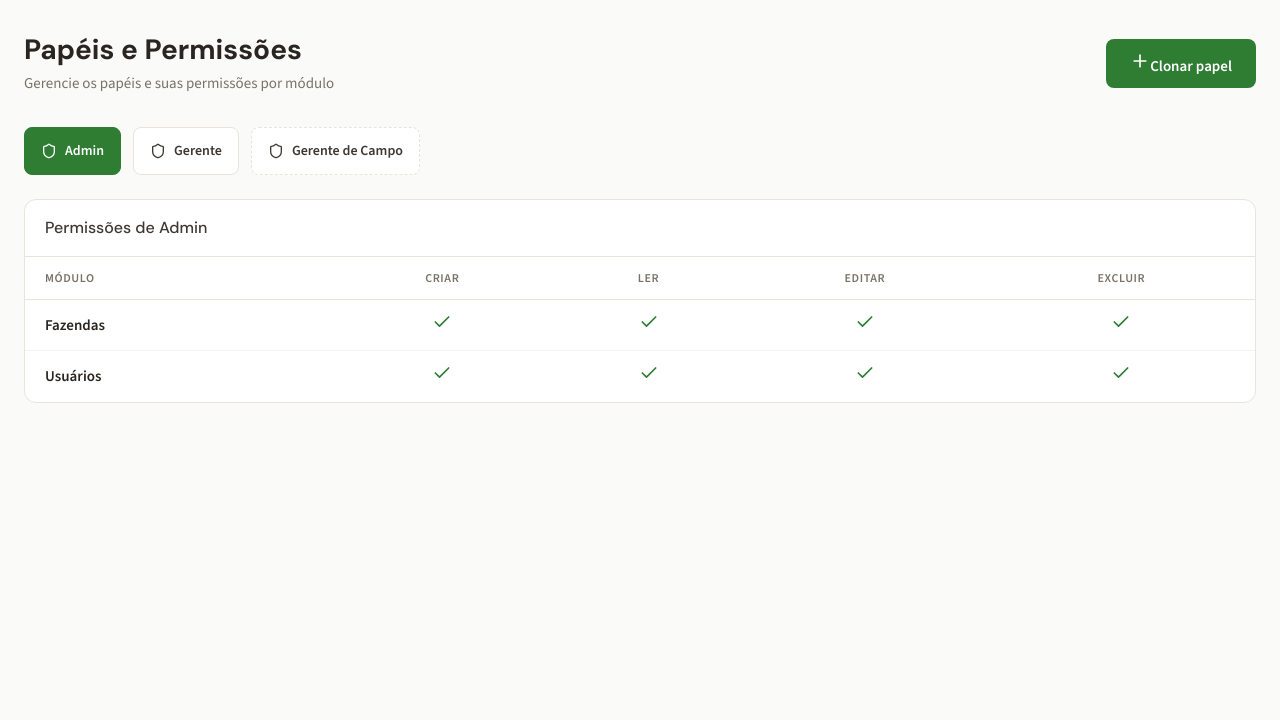
Test: RolesPage › delete modal: button disabled until name is typed correctly
The image size is (1280, 720).
Expected: the heading "Papéis e Permissões" is shown, [24,32,334,68]
Click the button "Gerente de Campo" at (335, 151), box [251,127,420,175]
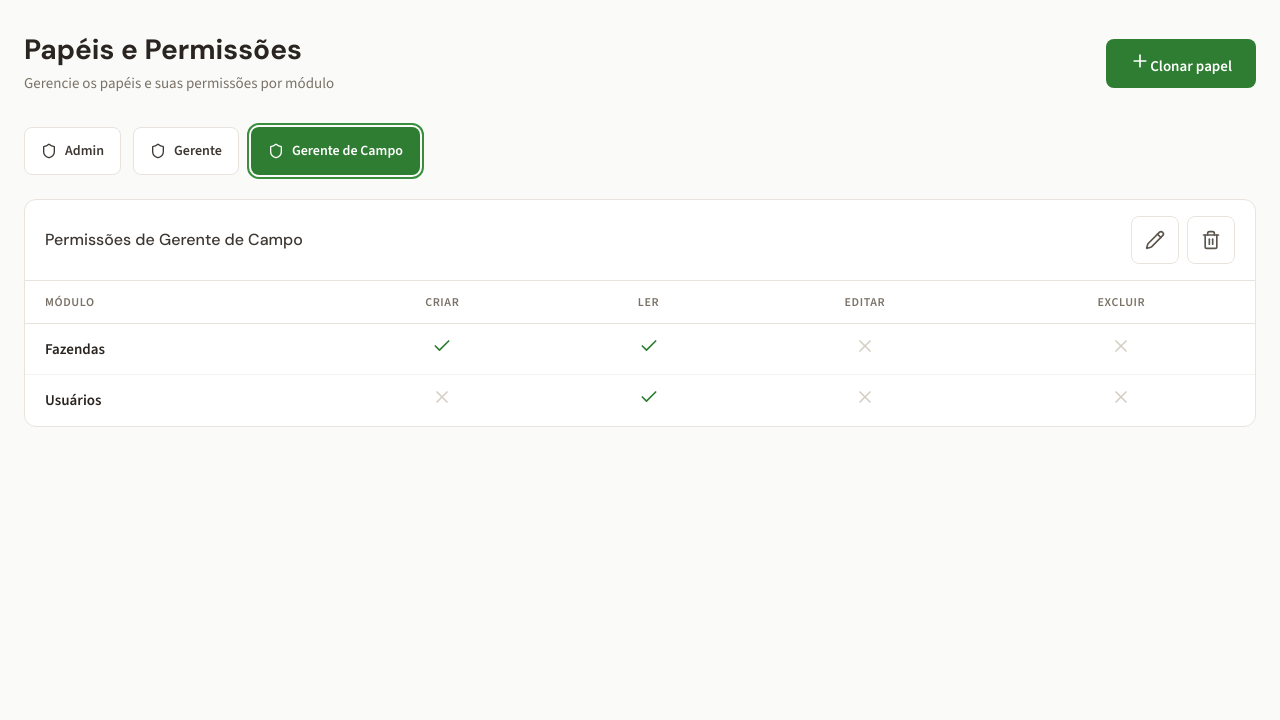
Click the button named "Excluir papel" at (1211, 240), box [1187,216,1235,264]
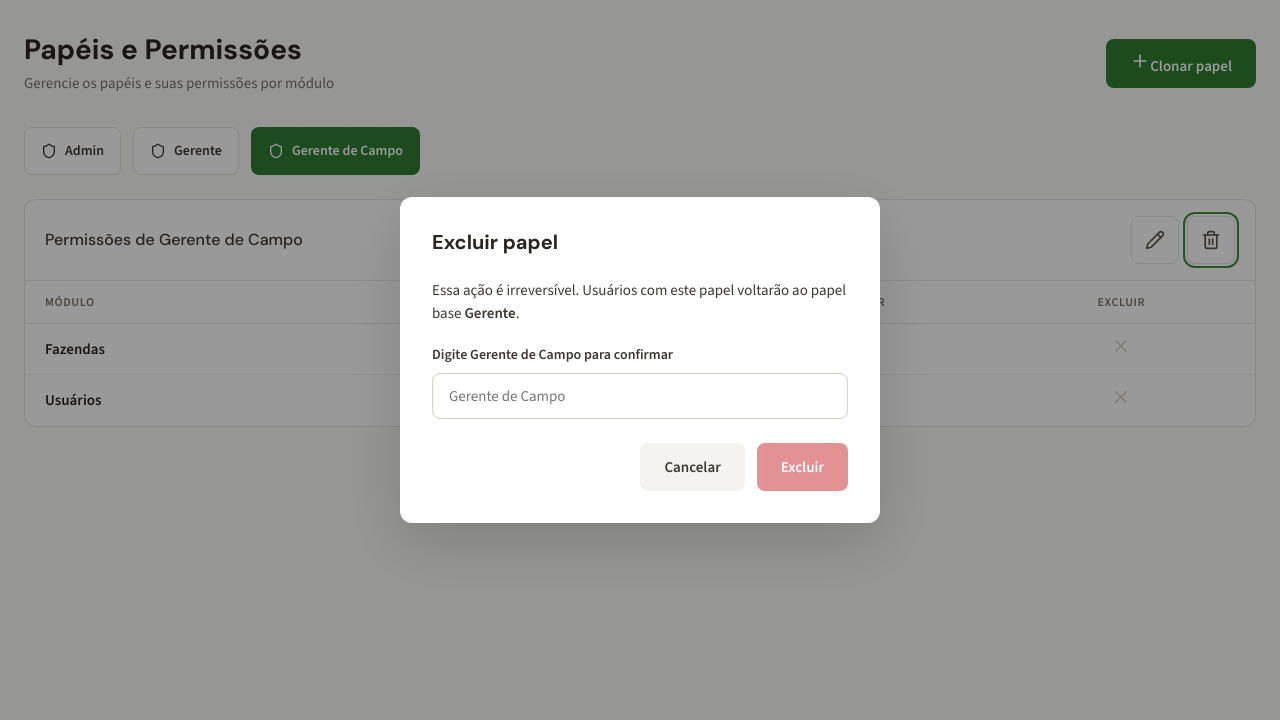
Expected: the button "Excluir" is disabled, [757,443,848,491]
Note: Type partial name
Type "Gerente" into the field labelled "Digite Gerente de Campo para confirmar" at (640, 396), box [432,373,848,419]
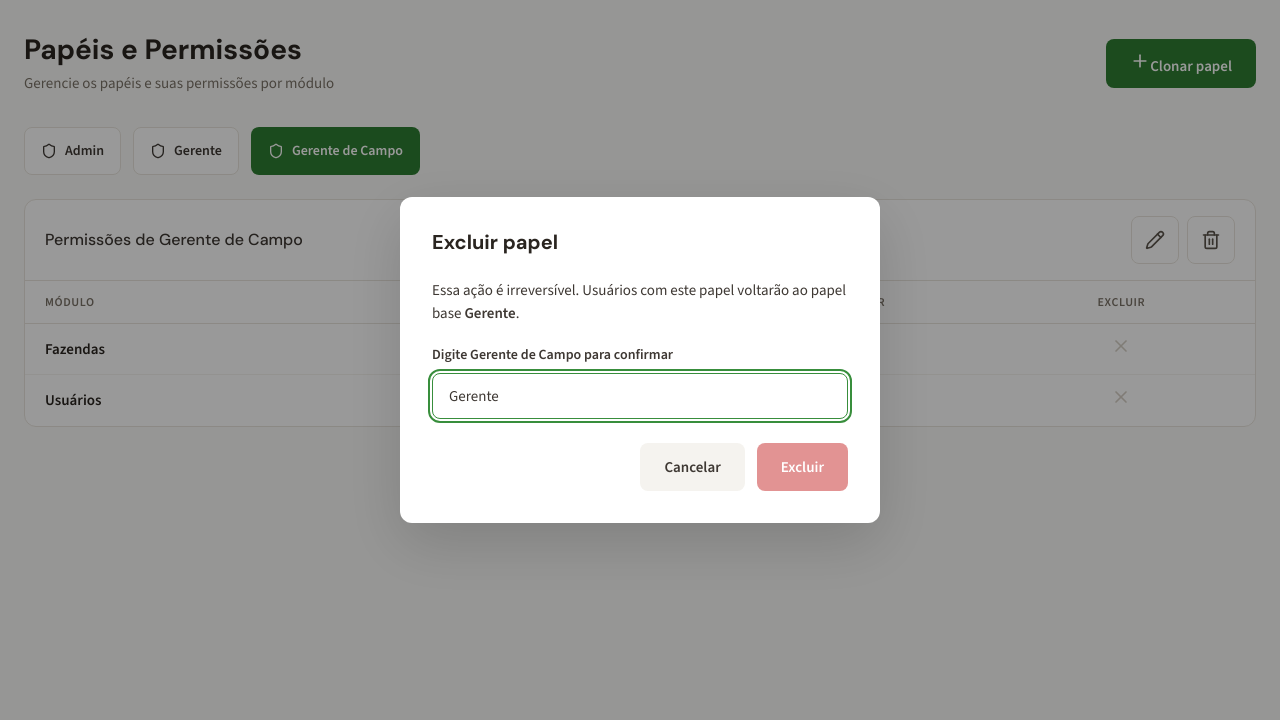
Expected: the button "Excluir" is disabled, [757,443,848,491]
Note: Type full name
Replace the text in the field labelled "Digite Gerente de Campo para confirmar" with "Gerente de Campo" at (640, 396), box [432,373,848,419]
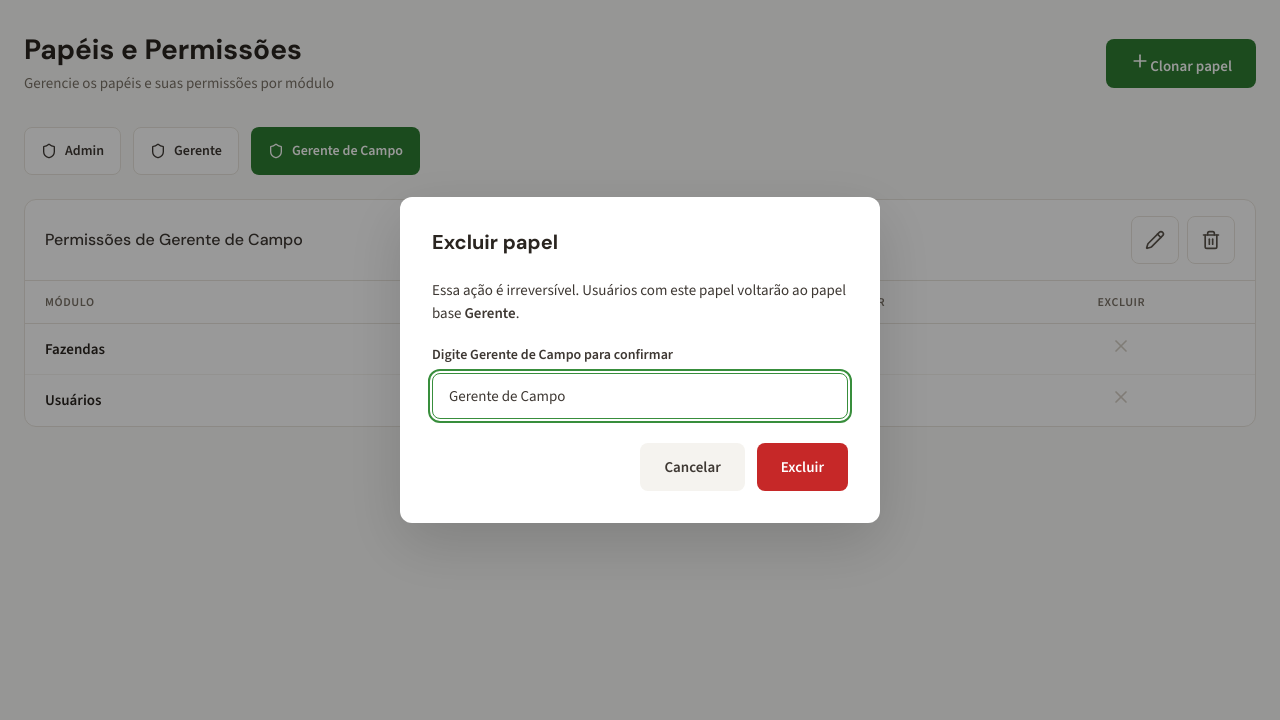
Expected: the button "Excluir" is enabled, [757,443,848,491]
